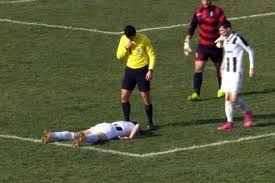falling: (38, 112, 145, 149)
